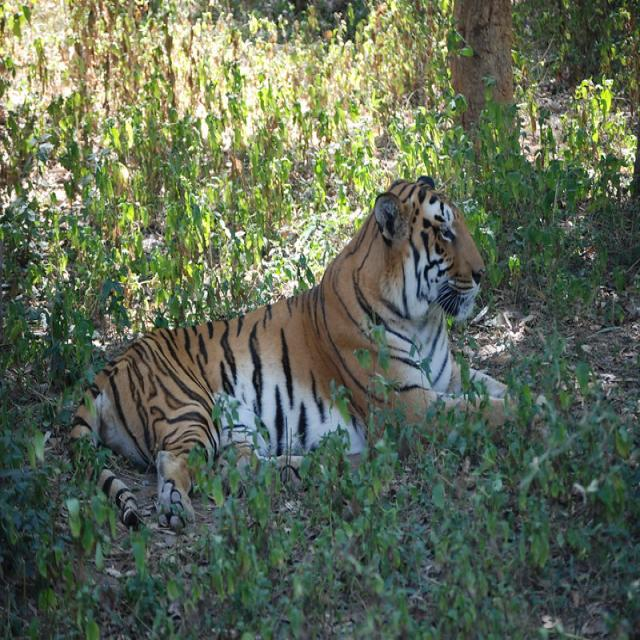Tiger: (66, 173, 549, 533)
